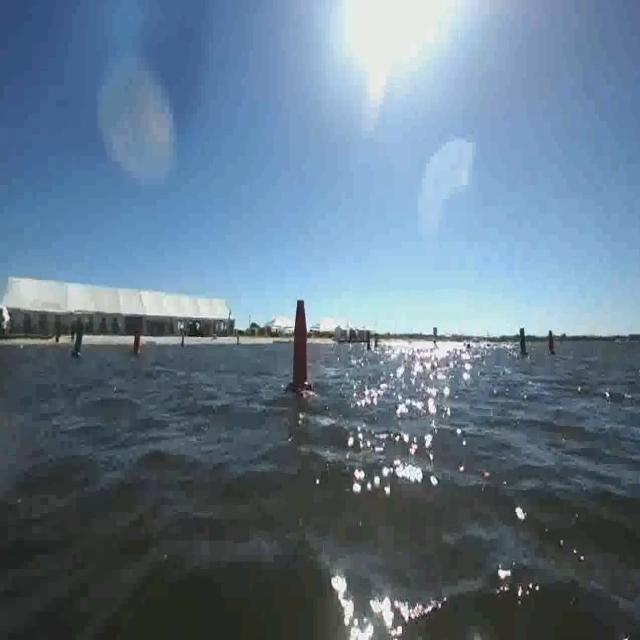green-column-buoy: (68, 319, 87, 362), (518, 328, 529, 358)
red-column-buoy: (290, 296, 314, 396), (133, 322, 145, 358), (548, 330, 558, 356)
